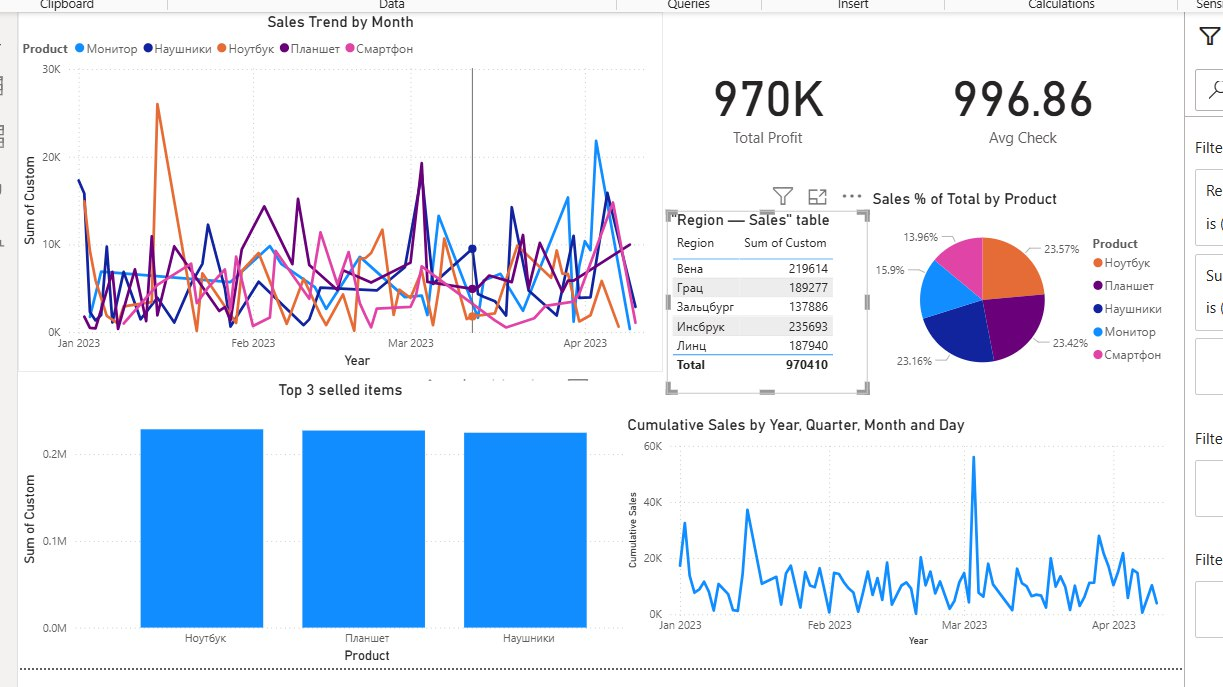

The page's visual inventory and layout, read from the dashboard file:
{"tool":"powerbi","page":{"name":"Page 1","canvas":[1280,720],"ordinal":0},"visuals":[{"type":"lineChart","title":"Sales Trend by Month","fields":{"Category":["sales_data.Дата.Variation.Date Hierarchy.Year","sales_data.Дата.Variation.Date Hierarchy.Quarter","sales_data.Дата.Variation.Date Hierarchy.Month","sales_data.Дата.Variation.Date Hierarchy.Day"],"Y":["Sum(sales_data.Custom)"],"Series":["sales_data.Товар"]},"box":[0,0,708.1,395.2],"z":0},{"type":"clusteredColumnChart","title":"Top 3 selled items","fields":{"Y":["Sum(sales_data.Custom)"],"Category":["sales_data.Товар"]},"box":[0,405,708,315],"z":1000},{"type":"card","title":"KPI Card: \"Total Revenue\"","fields":{"Values":["sales_data.Total Profit"]},"box":[710.8,0,225,197.6],"z":2000},{"type":"tableEx","title":"\"Region — Sales\" table","fields":{"Values":["sales_data.Регион","Sum(sales_data.Custom)"]},"box":[712.2,218.2,220.9,200.3],"z":3000},{"type":"card","fields":{"Values":["sales_data.Avg Check"]},"box":[935.9,0,334.8,197.6],"z":4000},{"type":"lineChart","fields":{"Category":["sales_data.Дата.Variation.Date Hierarchy.Year","sales_data.Дата.Variation.Date Hierarchy.Quarter","sales_data.Дата.Variation.Date Hierarchy.Month","sales_data.Дата.Variation.Date Hierarchy.Day"],"Y":["sales_data.Cumulative Sales"]},"box":[664.2,443.2,616.1,258],"z":4001},{"type":"pieChart","title":"Sales % of Total by Product","fields":{"Category":["sales_data.Товар"],"Y":["sales_data.Sales % of Total"]},"box":[933.1,194.9,337.6,223.7],"z":4002}]}

Visuals, with their boxes on the page's 1280x720 design canvas (x1, y1, x2, y2). These are canvas units, not pixel positions in the 1223x687 screenshot, which may show the page scaled, cropped or inside an application window:
"Sales Trend by Month" lineChart: 0, 0, 708, 395
"Top 3 selled items" clusteredColumnChart: 0, 405, 708, 720
"KPI Card: "Total Revenue"" card: 711, 0, 936, 198
""Region — Sales" table" tableEx: 712, 218, 933, 418
card - sales_data.Avg Check: 936, 0, 1271, 198
lineChart - sales_data.Дата.Variation.Date Hierarchy.Year x sales_data.Дата.Variation.Date Hierarchy.Quarter: 664, 443, 1280, 701
"Sales % of Total by Product" pieChart: 933, 195, 1271, 419
